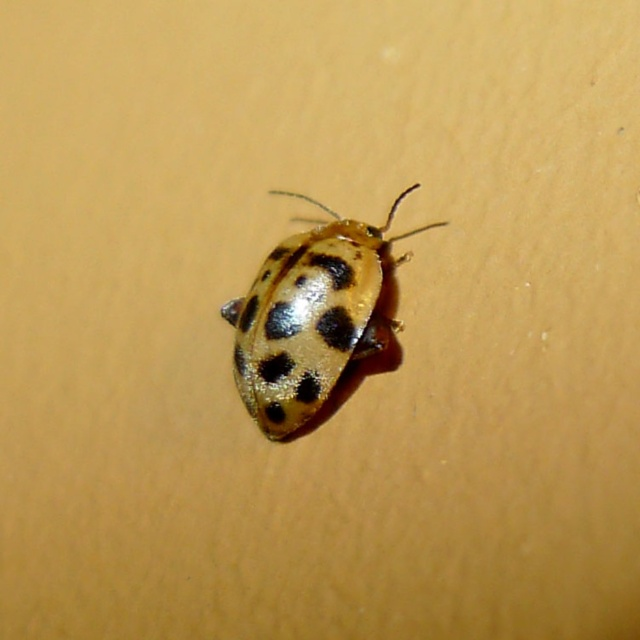Ladybug: (218, 182, 419, 450)
